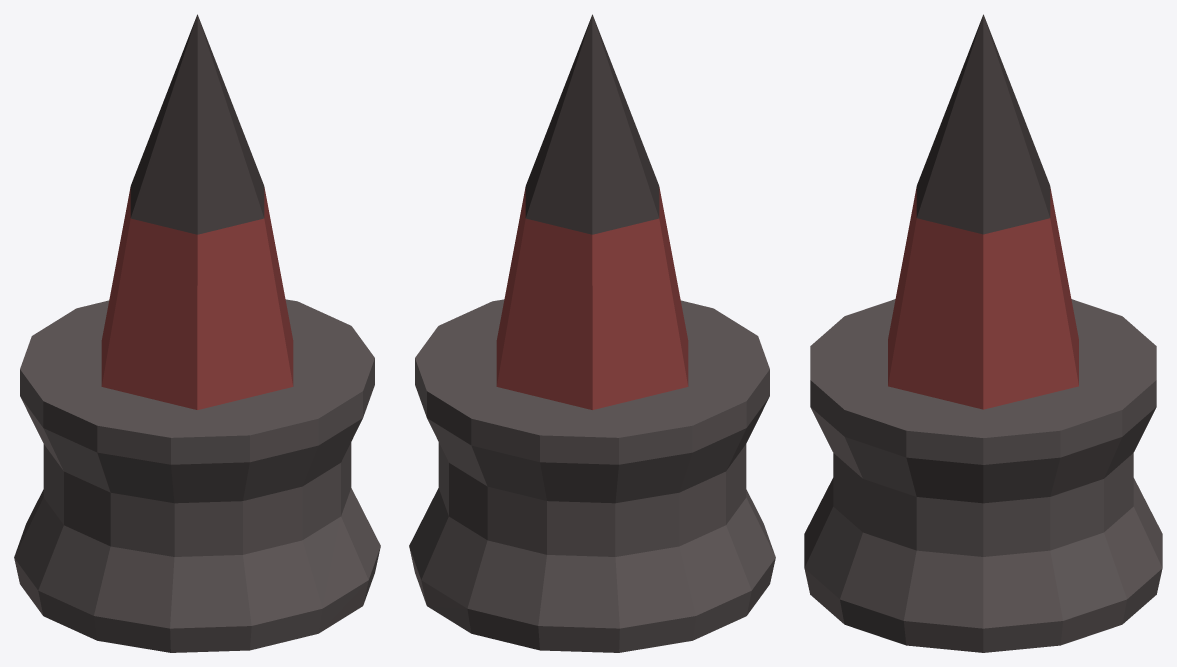
Rendered from void_sculpture_c.obj.
3 views of the same model, side by side, from view 1: azimuth 30°, elevation 25°; view 2: azimuth 150°, elevation 25°; view 3: azimuth 270°, elevation 25° (orthographic).
Visible parts, largest first — view 1: void_sculpture_c_0, void_sculpture_c_1, void_sculpture_c_2; view 2: void_sculpture_c_0, void_sculpture_c_1, void_sculpture_c_2; view 3: void_sculpture_c_0, void_sculpture_c_1, void_sculpture_c_2.
Boxes of the visible parts, left/top/right/bottom form: void_sculpture_c_0: left=14, top=299, right=380, bottom=652; void_sculpture_c_1: left=101, top=187, right=293, bottom=409; void_sculpture_c_2: left=130, top=14, right=264, bottom=234; void_sculpture_c_0: left=409, top=299, right=775, bottom=652; void_sculpture_c_1: left=496, top=187, right=688, bottom=409; void_sculpture_c_2: left=525, top=14, right=659, bottom=234; void_sculpture_c_0: left=804, top=299, right=1162, bottom=652; void_sculpture_c_1: left=888, top=187, right=1078, bottom=409; void_sculpture_c_2: left=916, top=14, right=1050, bottom=234.
Bounding box in the file's own units: 0.62 × 1.05 × 0.6044.
